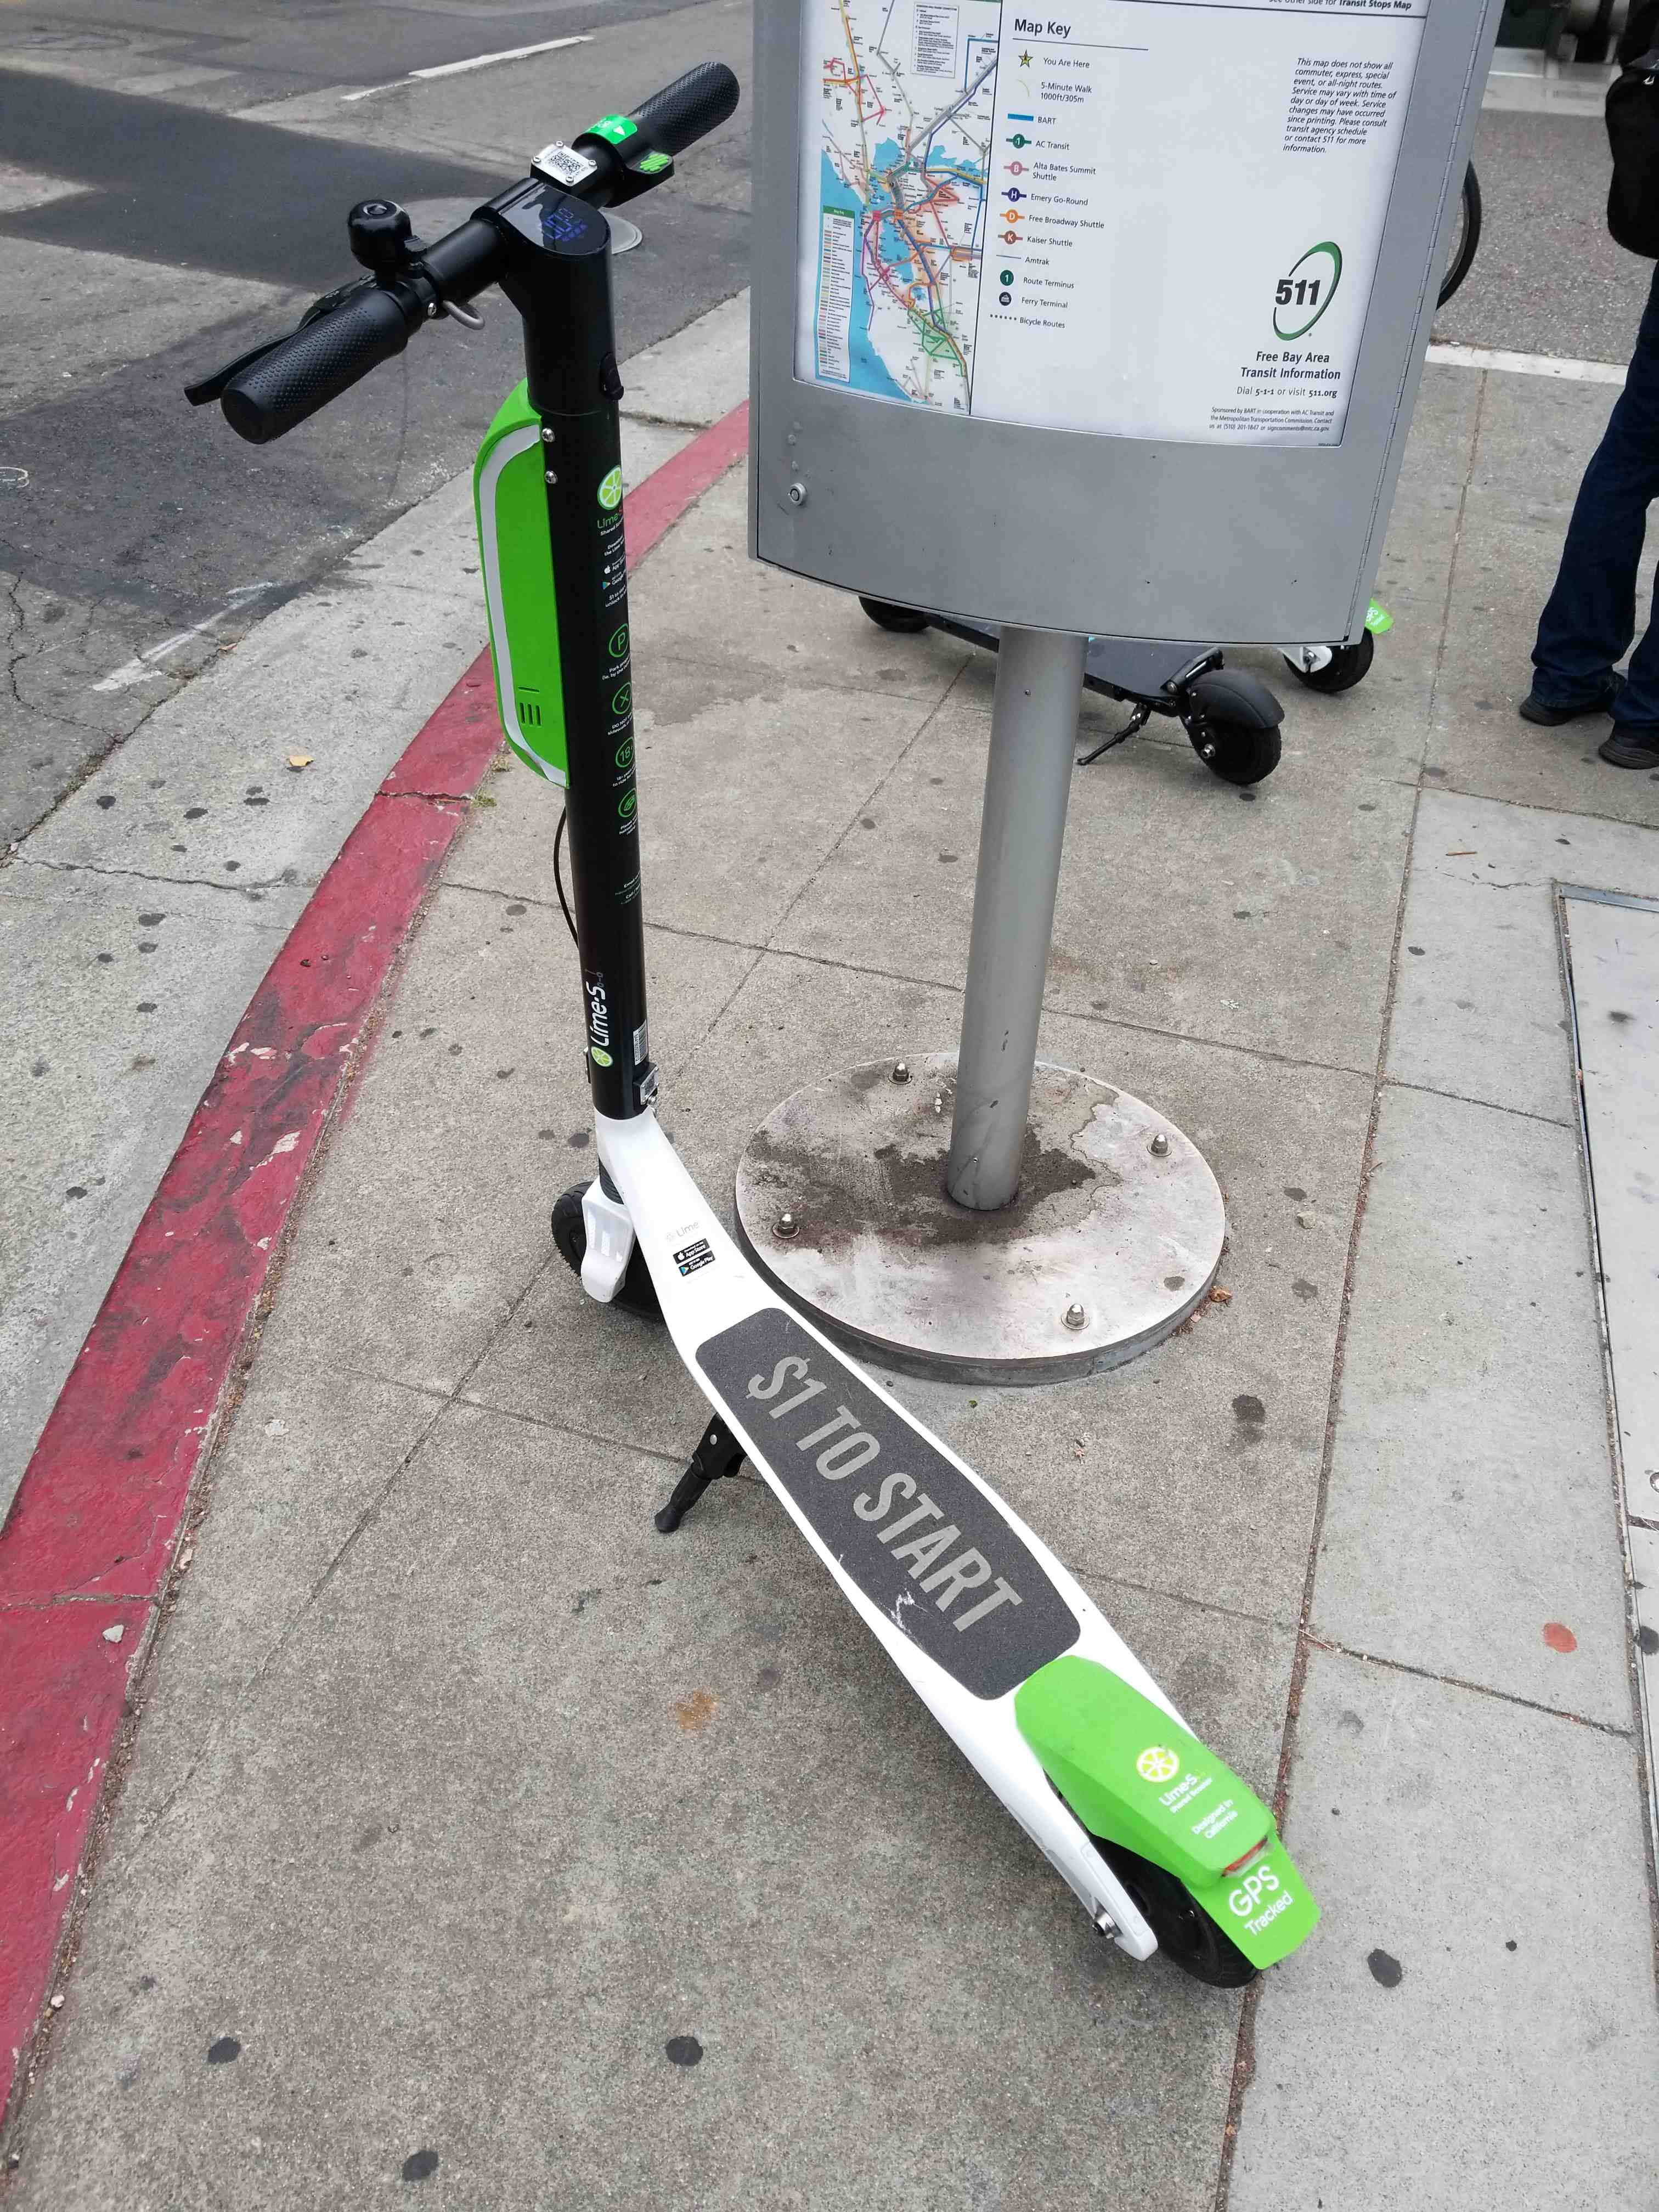scooter: (136, 105, 1337, 2121)
